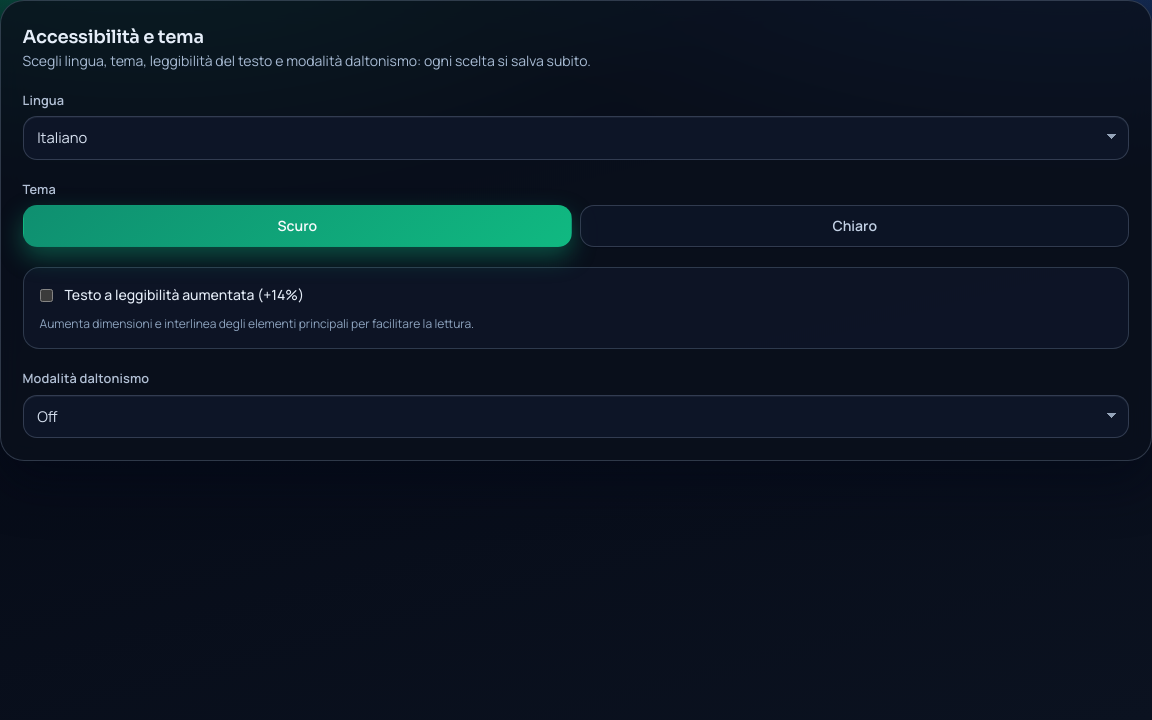
Test: preferenze salvate a ogni scelta › con una risposta 500 il testo più grande torna non selezionato e l'errore è in un elemento role alert
Click the checkbox at (46, 296), box 40,289 -> 53,302
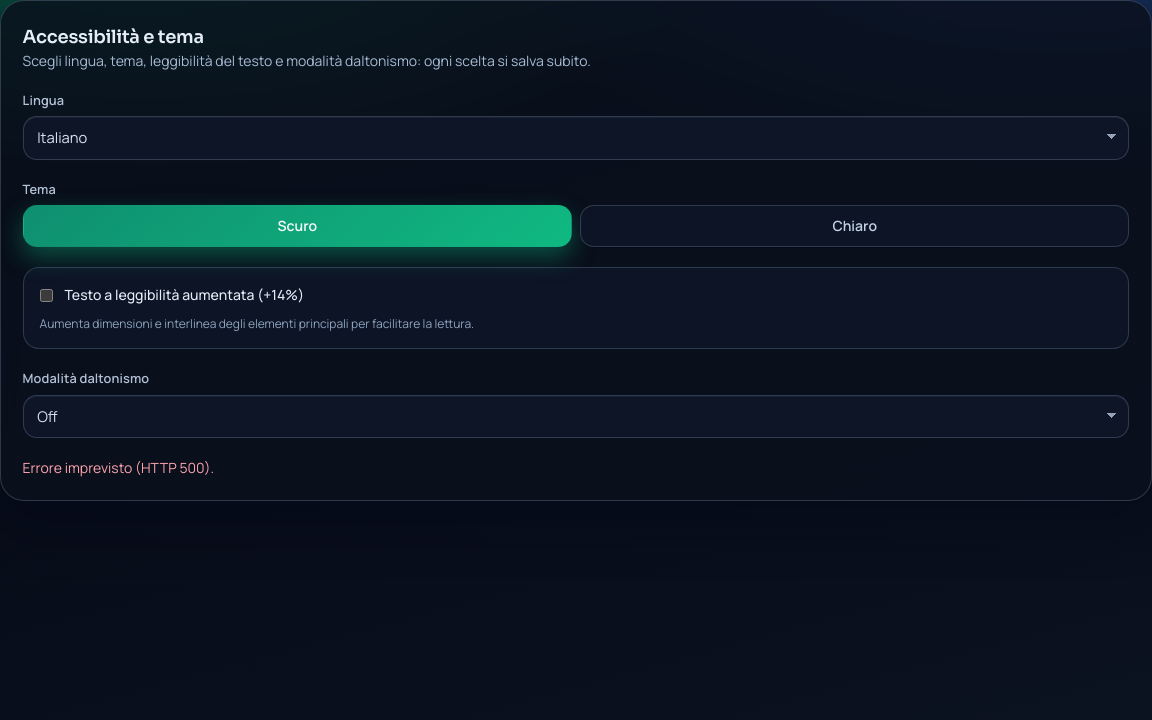
Expected: the message reads "Errore imprevisto (HTTP 500).", 23,458 -> 214,477
